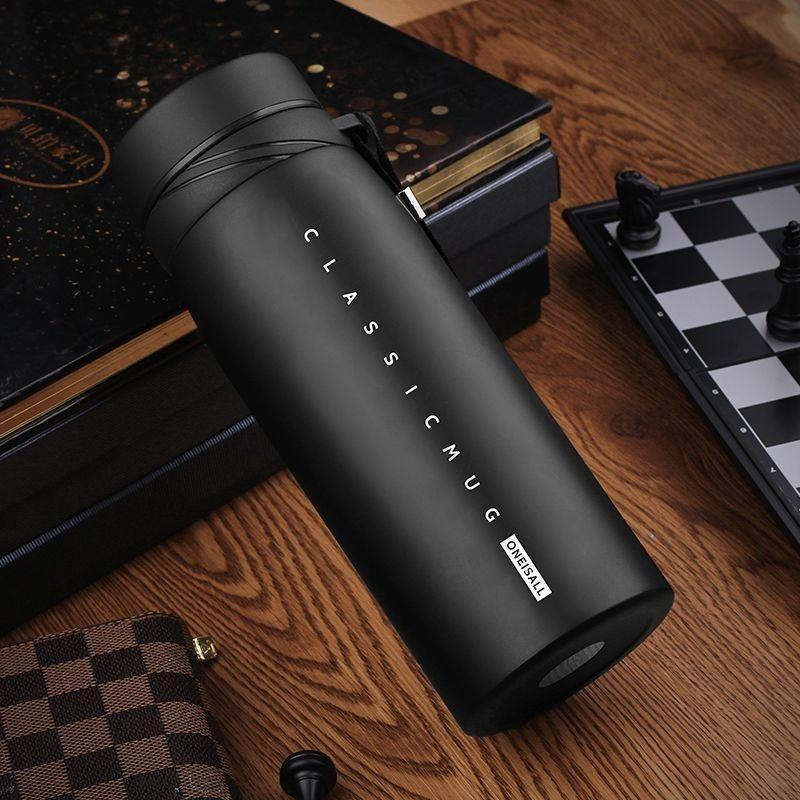gym bottle: (109, 51, 671, 726)
